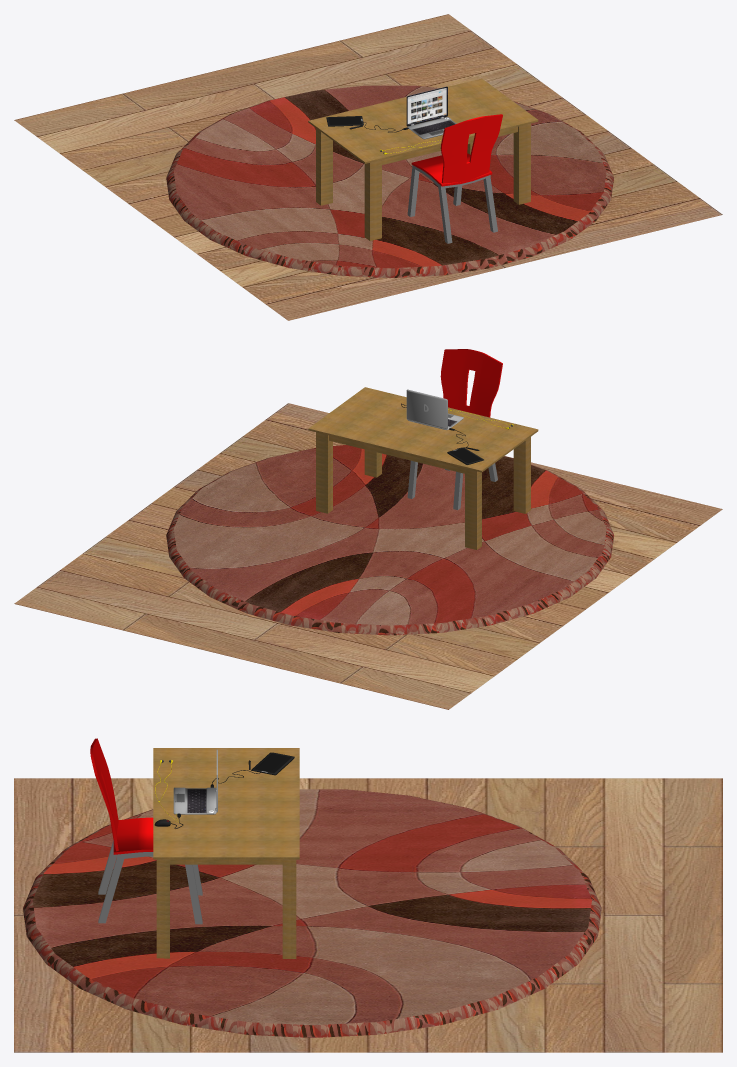
Rendered from laptop.glb.
The picture shows the model from 3 angles, top to bottom: view 1: azimuth 30°, elevation 25°; view 2: azimuth 150°, elevation 25°; view 3: azimuth 270°, elevation 25°; orthographic projection. The views are drawn at different scales.
Visible parts, largest first — view 1: Object_12, Object_4, Object_8, Object_9, Object_10, Object_6, Object_5; view 2: Object_12, Object_4, Object_8, Object_9, Object_5, Object_10; view 3: Object_12, Object_4, Object_8, Object_9, Object_10, Object_5, Object_3.
Boxes of the visible parts, x1,y1,x2,y2 form: Object_12: [166, 85, 613, 278]; Object_4: [14, 14, 722, 320]; Object_8: [308, 78, 538, 240]; Object_9: [411, 114, 502, 186]; Object_10: [407, 165, 497, 243]; Object_6: [407, 88, 446, 124]; Object_5: [406, 86, 456, 139]; Object_12: [166, 445, 613, 635]; Object_4: [14, 403, 722, 709]; Object_8: [308, 387, 538, 549]; Object_9: [440, 349, 502, 417]; Object_5: [406, 389, 463, 430]; Object_10: [407, 460, 497, 510]; Object_12: [23, 789, 601, 1037]; Object_4: [14, 778, 722, 1052]; Object_8: [153, 748, 299, 958]; Object_9: [90, 738, 153, 854]; Object_10: [98, 840, 202, 924]; Object_5: [173, 749, 217, 814]; Object_3: [212, 752, 294, 784].
Size of the model in its own units: 1165 by 330 by 1273.
10 materials, 8 textured.
